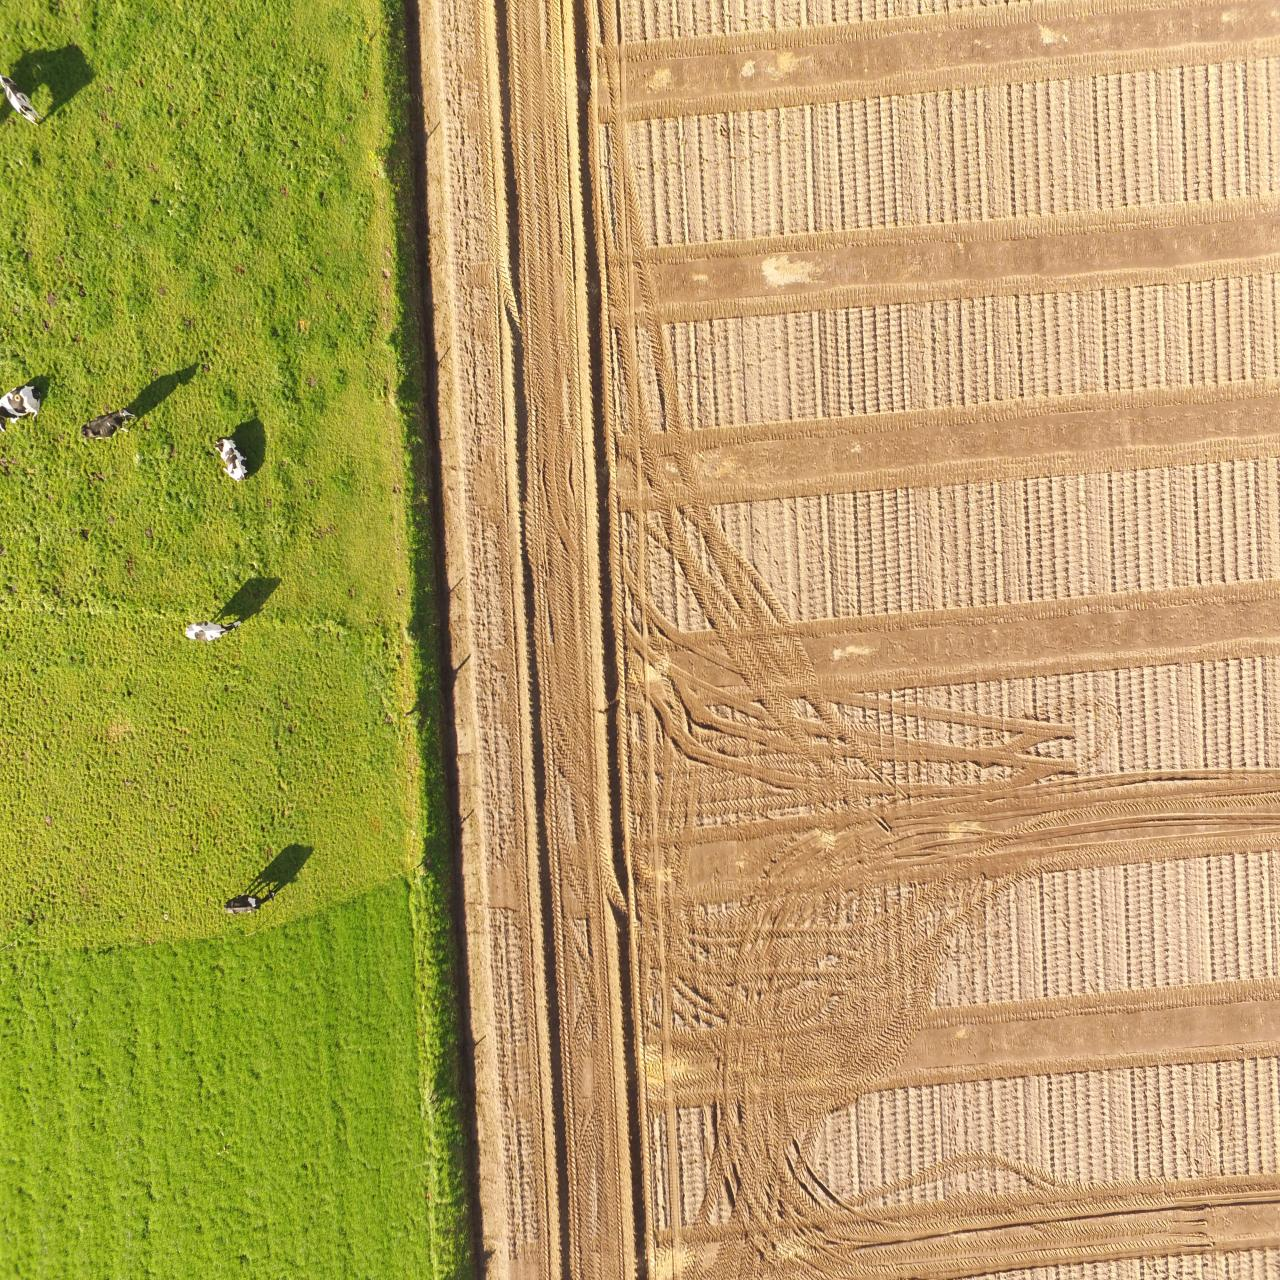cow: (207, 431, 252, 483), (0, 70, 40, 128), (80, 408, 136, 441), (0, 379, 38, 427), (181, 617, 241, 645), (220, 885, 277, 915)
